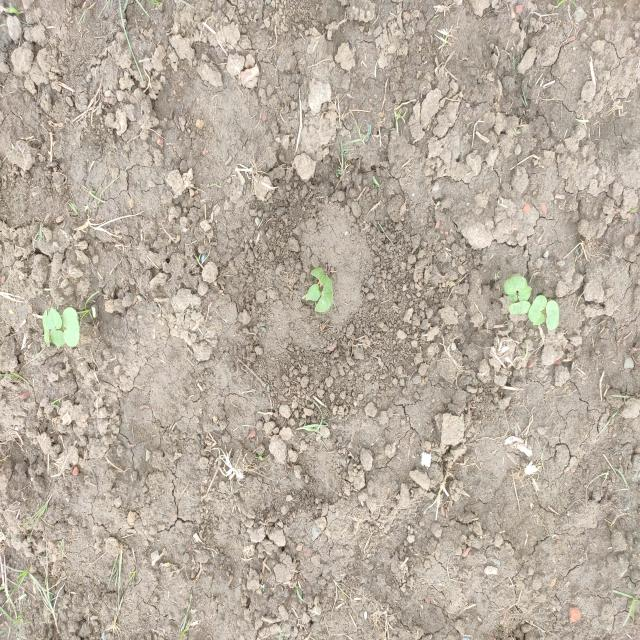seedling_s4: (62, 307, 80, 347), (315, 282, 333, 312), (528, 295, 547, 322), (504, 275, 527, 294), (311, 267, 332, 287), (546, 300, 559, 330), (46, 307, 62, 330), (50, 330, 66, 349), (42, 309, 50, 347), (508, 301, 531, 314), (305, 284, 320, 301), (518, 285, 532, 301), (533, 313, 545, 325), (507, 291, 518, 302)
